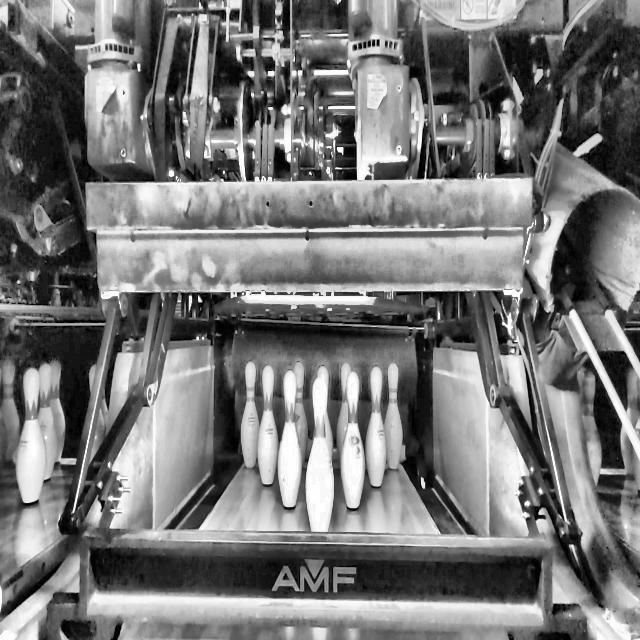bowling-pins: (306, 377, 334, 532), (14, 367, 45, 504), (277, 370, 302, 508), (341, 372, 365, 510), (365, 366, 387, 487), (258, 365, 278, 486), (37, 363, 56, 480), (241, 361, 259, 468), (385, 363, 403, 470), (50, 360, 65, 462), (336, 363, 351, 458), (294, 361, 308, 462)
sweep board: (45, 527, 556, 640)
